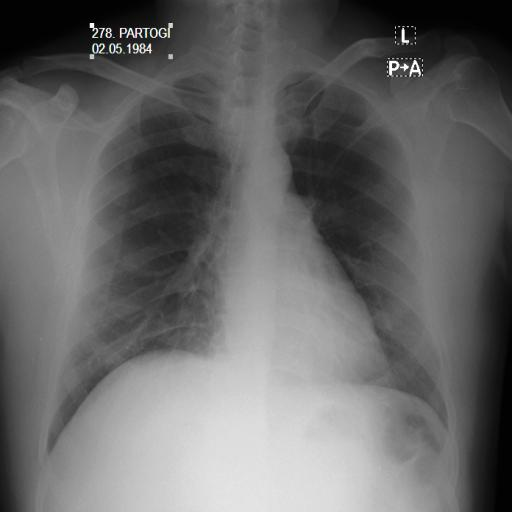kardiomegali: (39, 48, 460, 458)
